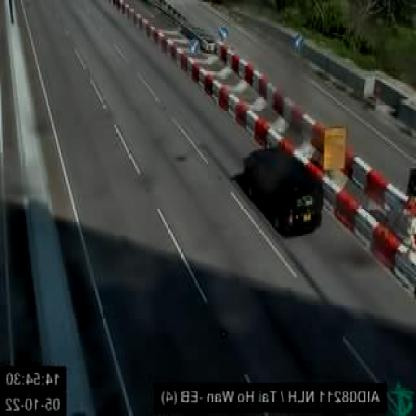Car: (244, 148, 325, 232)
